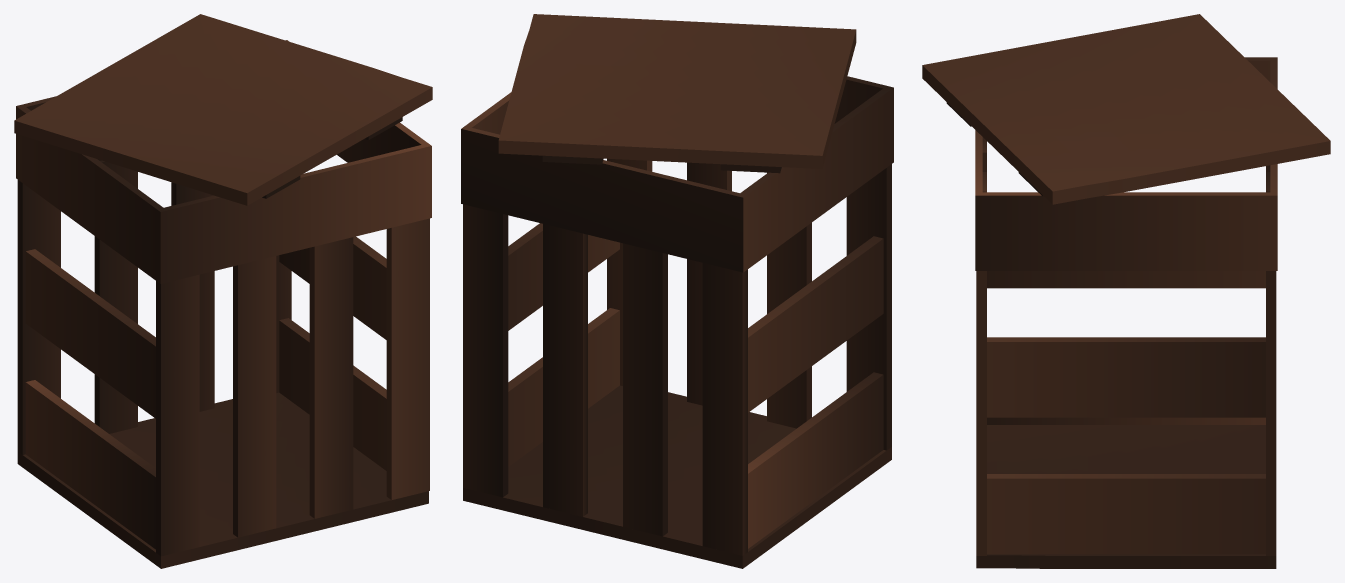
The model's file is Tall Dark Crate Open Lid.fbx.
The picture shows the model from 3 angles, left to right: view 1: azimuth 30°, elevation 25°; view 2: azimuth 150°, elevation 25°; view 3: azimuth 270°, elevation 25°; orthographic projection. The views are drawn at different scales.
Visible parts, largest first — view 1: Tall Dark Crate Open Lid; view 2: Tall Dark Crate Open Lid; view 3: Tall Dark Crate Open Lid.
Part boxes in pixels (box(x1,y1,x2,y2)): Tall Dark Crate Open Lid: box(14, 14, 432, 568); Tall Dark Crate Open Lid: box(461, 14, 893, 568); Tall Dark Crate Open Lid: box(922, 14, 1330, 568).
Bounding box in the file's own units: 302 × 281 × 289.
1 material, 1 textured.
